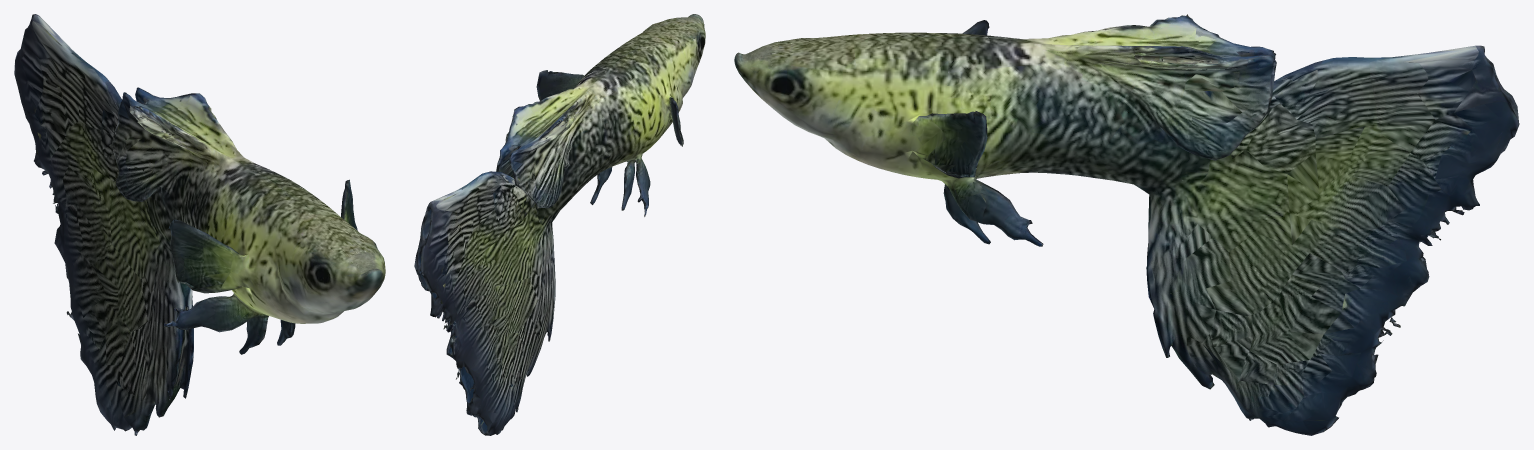
The model's file is strain-green_snakeskin.glb.
The picture shows the model from 3 angles, left to right: view 1: azimuth 30°, elevation 25°; view 2: azimuth 150°, elevation 25°; view 3: azimuth 270°, elevation 25°; orthographic projection. The views are drawn at different scales.
Parts seen in each view (by area): view 1: Mesh_0.001; view 2: Mesh_0.001; view 3: Mesh_0.001.
Boxes of the visible parts, x1,y1,x2,y2 form: Mesh_0.001: [14, 14, 385, 435]; Mesh_0.001: [414, 14, 705, 435]; Mesh_0.001: [734, 14, 1519, 435].
Bounding box in the file's own units: 0.0113 × 0.0218 × 0.0383.
Materials: 2 (2 with a texture image).
